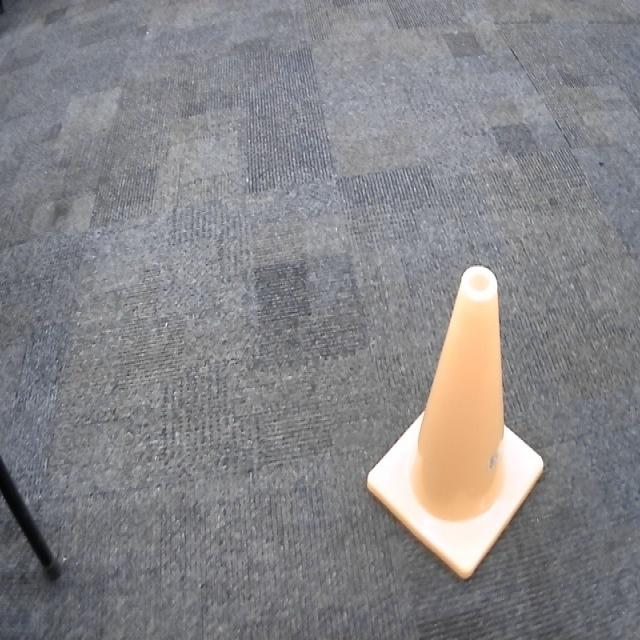cone: (360, 258, 548, 592)
